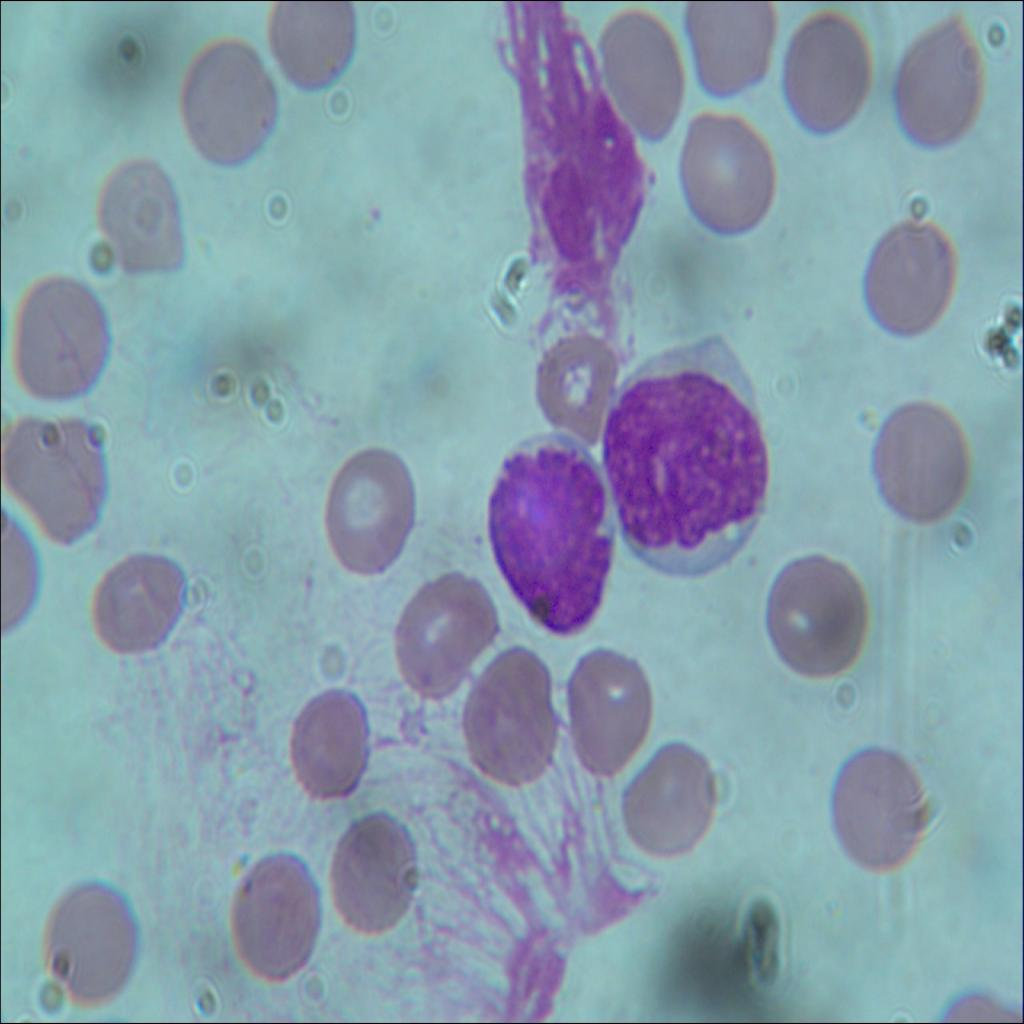Eritrosit: (453, 634, 558, 796), (389, 561, 504, 694), (822, 740, 931, 879), (858, 204, 964, 346), (863, 397, 974, 532), (0, 414, 110, 548), (888, 7, 984, 158), (763, 551, 868, 688), (323, 440, 419, 588), (178, 35, 279, 169), (224, 850, 319, 988), (11, 282, 118, 404), (36, 884, 142, 1004), (324, 814, 419, 947), (562, 648, 659, 778), (679, 108, 778, 234), (93, 154, 186, 284), (786, 5, 876, 139), (594, 12, 686, 138), (622, 754, 728, 858), (286, 687, 372, 805), (684, 0, 776, 105), (90, 557, 188, 652), (531, 330, 615, 440), (268, 0, 361, 98)
Limfoblast: (601, 332, 773, 572), (486, 438, 622, 637)
Platelet: (355, 194, 383, 232)
